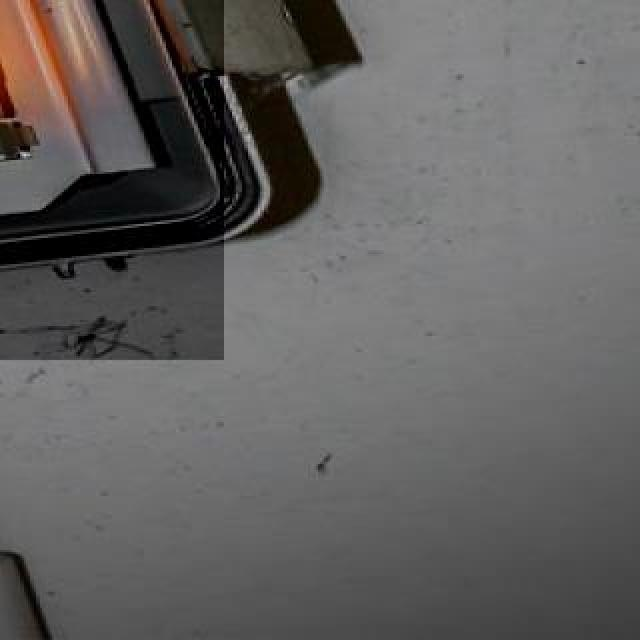fluorescent tube: (0, 0, 56, 208)
